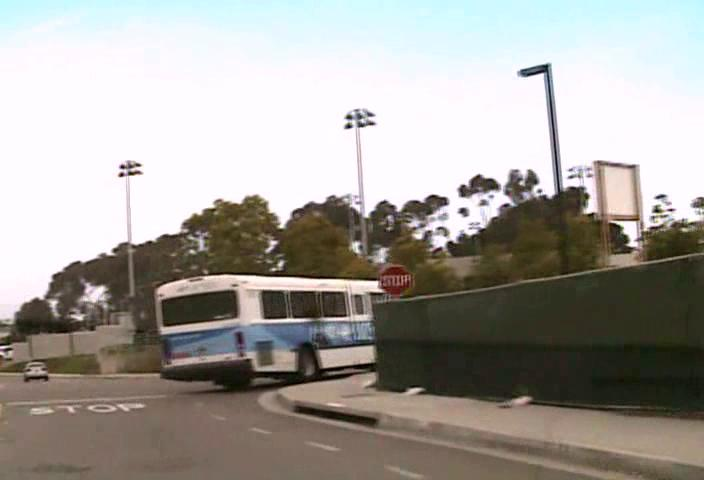stop: (379, 264, 411, 296)
